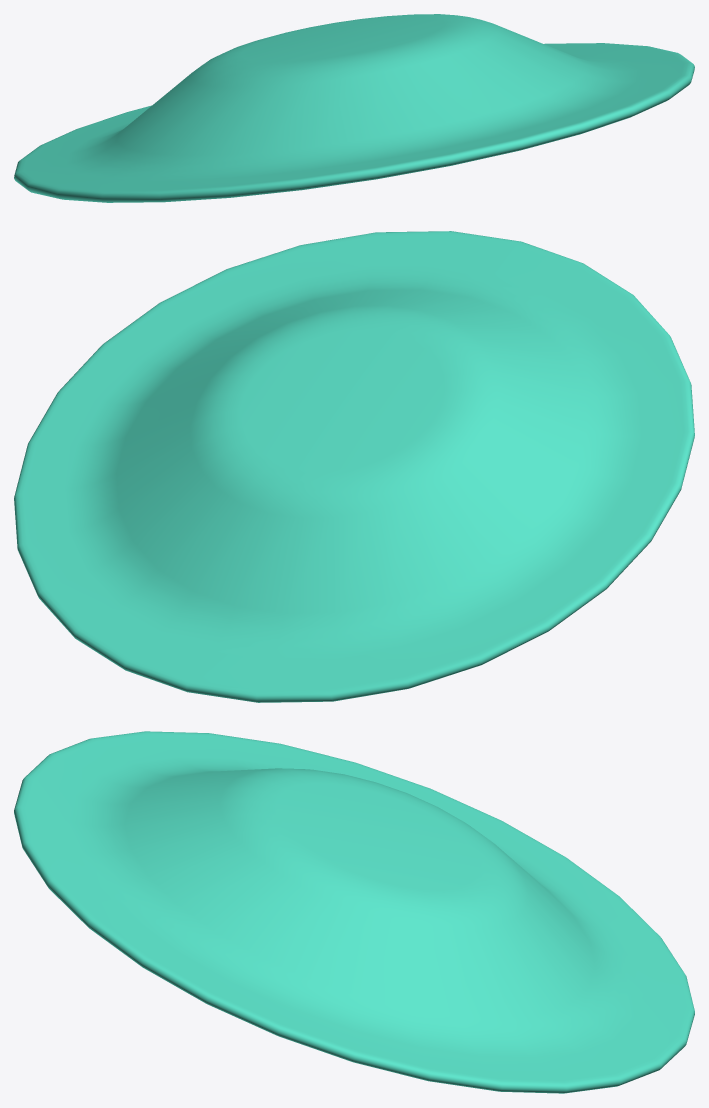
The picture shows the model from 3 angles, top to bottom: view 1: azimuth 30°, elevation 25°; view 2: azimuth 150°, elevation 25°; view 3: azimuth 270°, elevation 25°; orthographic projection.
Size of the model in its own units: 1.98 by 0.683 by 1.94.
